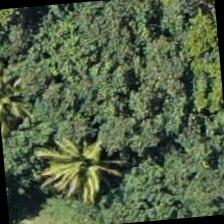Kelapa_Sawit: (25, 120, 123, 218), (0, 53, 76, 150)
